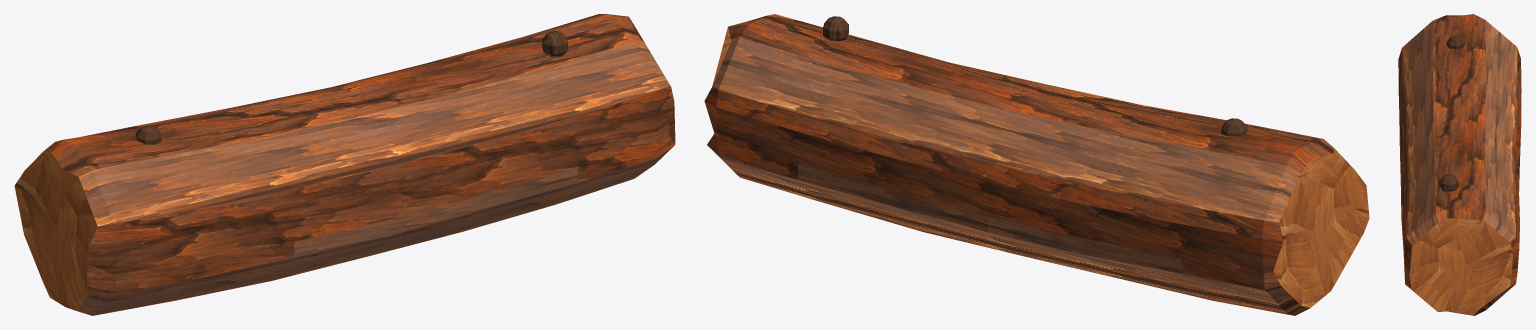
File: beam_half__plank_root.glb
3 renders of one model, left to right at view 1: azimuth 30°, elevation 25°; view 2: azimuth 150°, elevation 25°; view 3: azimuth 270°, elevation 25°, orthographic. The views are drawn at different scales.
Visible parts, largest first — view 1: model; view 2: model; view 3: model.
Boxes of the visible parts, x1,y1,x2,y2 form: model: [14, 14, 675, 315]; model: [704, 14, 1369, 315]; model: [1398, 14, 1521, 315].
Bounding box in the file's own units: 0.9711 × 0.2743 × 0.246.
4 materials, 4 textured.
